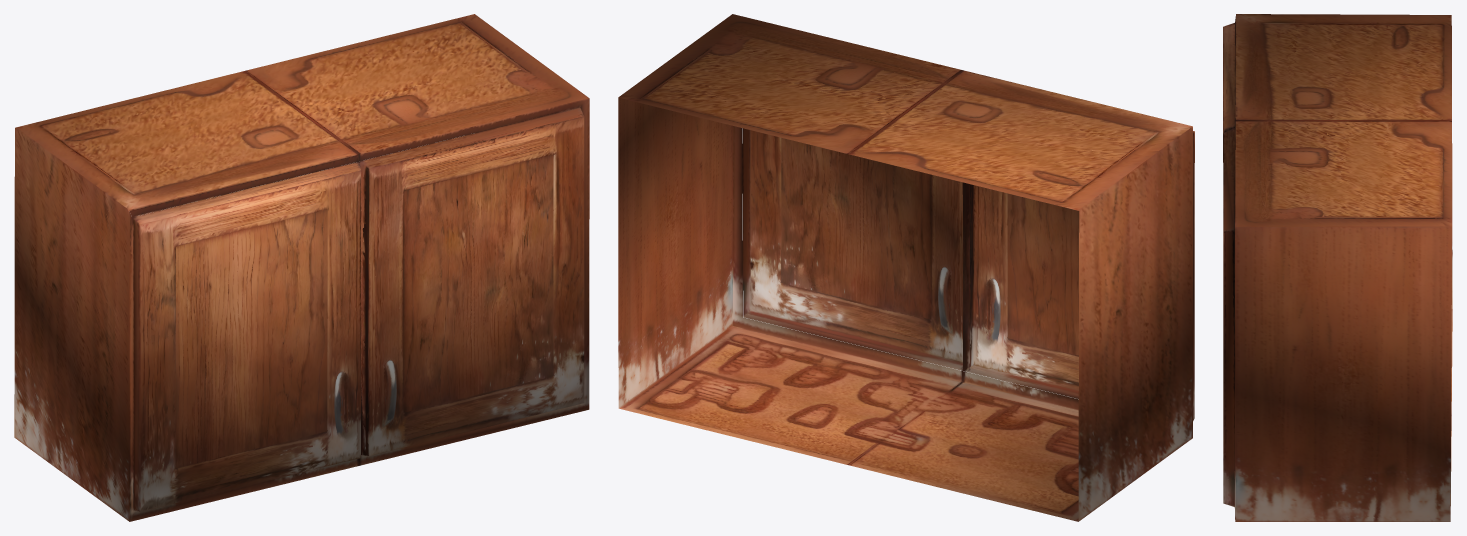
The model's file is stage4_upper_sink.fbx.
3 views of the same model, side by side, from view 1: azimuth 30°, elevation 25°; view 2: azimuth 150°, elevation 25°; view 3: azimuth 270°, elevation 25° (orthographic). The views are drawn at different scales.
Visible parts, largest first — view 1: stage4_upper_sink; view 2: stage4_upper_sink; view 3: stage4_upper_sink.
Boxes of the visible parts, x1,y1,x2,y2 form: stage4_upper_sink: [14, 14, 589, 521]; stage4_upper_sink: [618, 14, 1194, 521]; stage4_upper_sink: [1223, 14, 1452, 521].
Bounding box in the file's own units: 0.8428 × 0.5453 × 0.3842.
